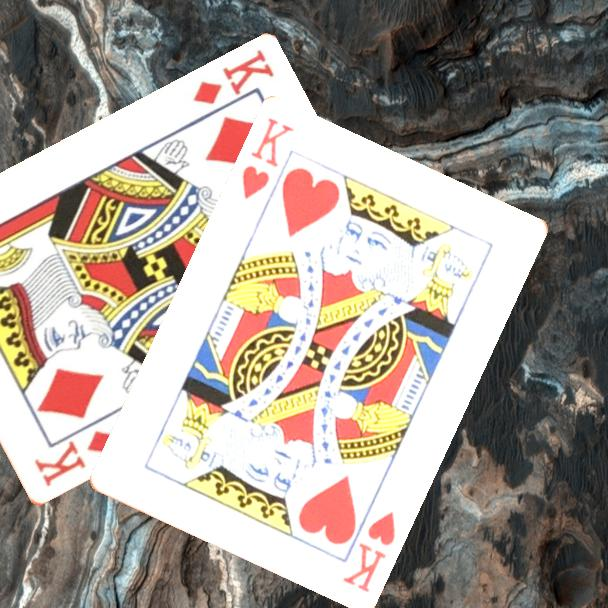d13: (30, 427, 119, 490), (189, 46, 277, 108)
h13: (339, 509, 399, 596), (238, 115, 297, 203)
